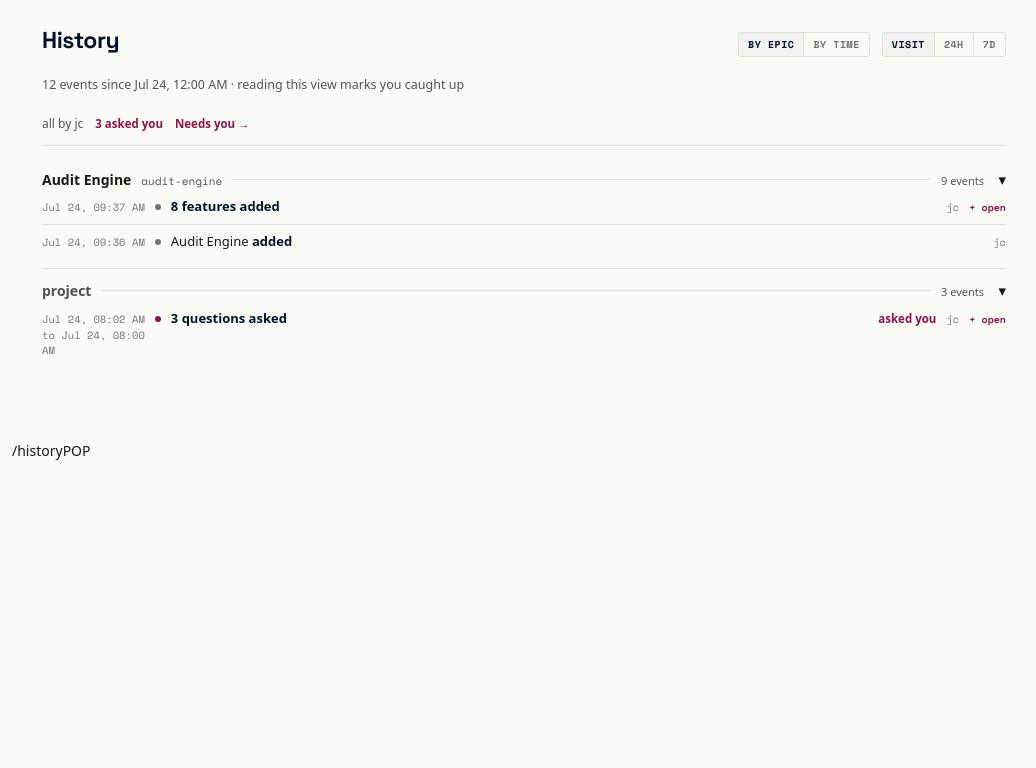
Test: History view: burst expand-in-place with toggle wording › reads '+ open' closed and '– close' open, expanding in place with no refetch
The image size is (1036, 768).
Expected: the text "12 events" is shown, [42, 76, 464, 92]
Expected: the text with class "burst-toggle" in the row of "features added" reads "+ open", [969, 200, 1006, 215]
What coordinates should you click on to do the following:
click the heading "Jul 24, 09:37 AM 8 features added jc + open"
I would click on:
 (93, 207)
Its box is [42, 197, 1006, 215].
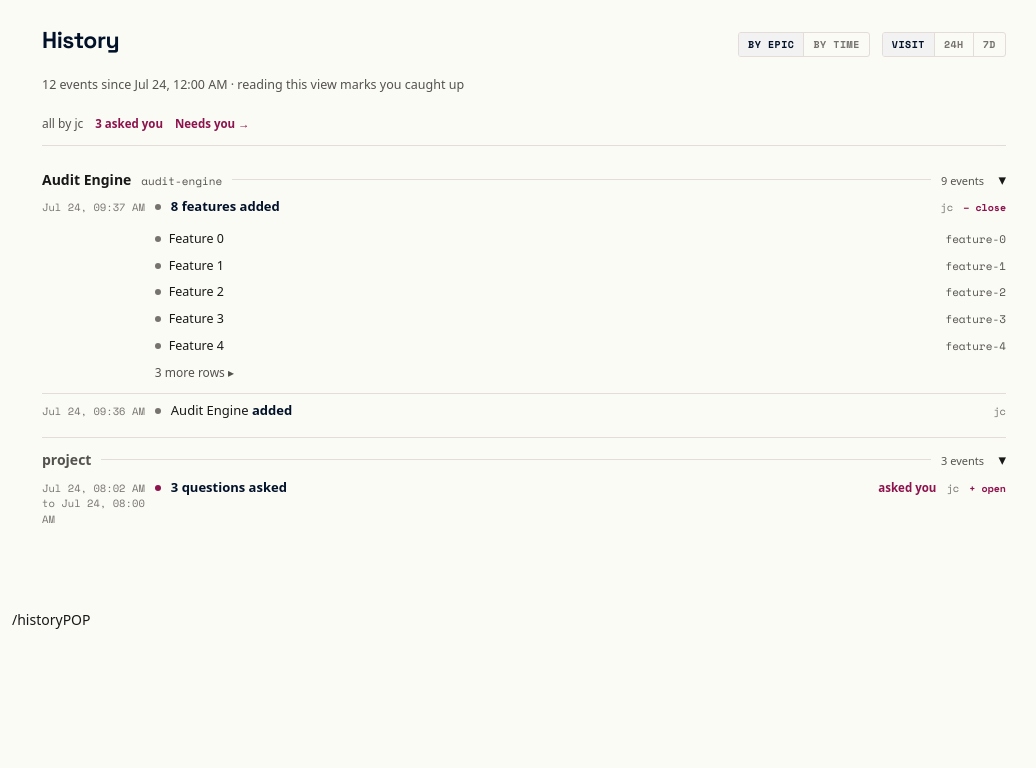
Now the text with class "burst-toggle" reads "– close", box [963, 200, 1006, 215]
Now the list item with class "recap-entry" showing "Feature 0 feature-0" is shown, box [155, 226, 1006, 253]
